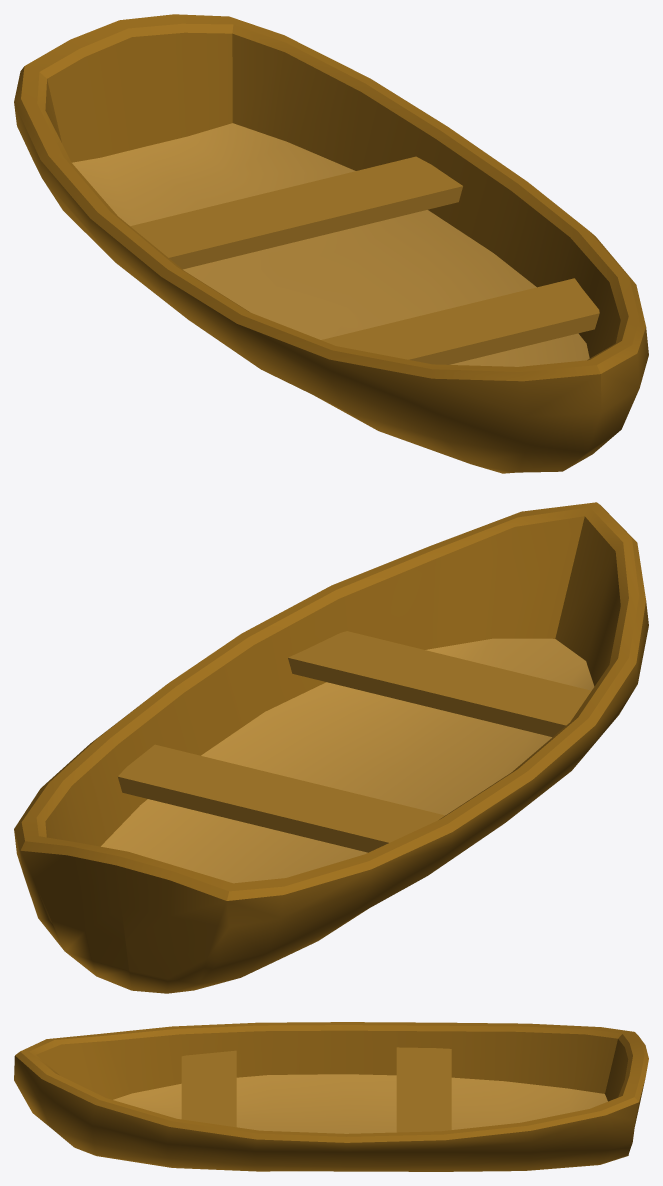
The model's file is boat2.fbx.
3 views of the same model, one above another, from view 1: azimuth 30°, elevation 25°; view 2: azimuth 150°, elevation 25°; view 3: azimuth 270°, elevation 25° (orthographic). The views are drawn at different scales.
Parts seen in each view (by area): view 1: boat2; view 2: boat2; view 3: boat2.
Boxes of the visible parts, x1,y1,x2,y2 form: boat2: (14,14,648,473); boat2: (14,502,648,993); boat2: (14,1022,648,1171).
Bounding box in the file's own units: 106 × 45.6 × 239.
